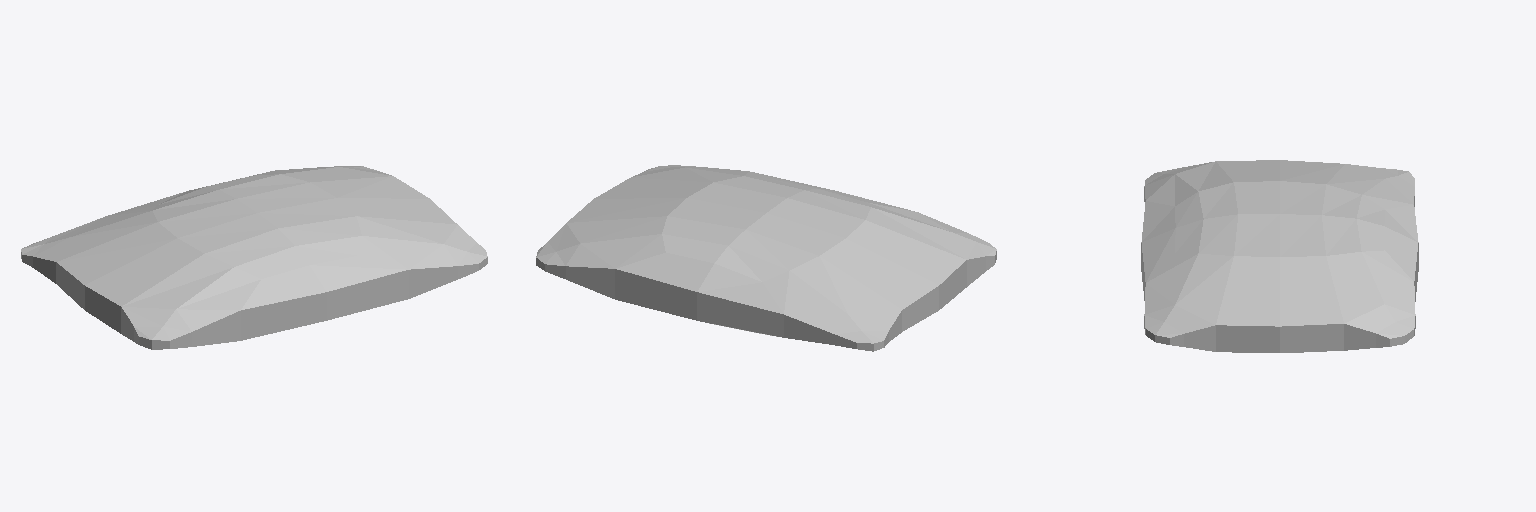
The model's file is pillows_1.obj.
3 renders of one model, left to right at view 1: azimuth 30°, elevation 25°; view 2: azimuth 150°, elevation 25°; view 3: azimuth 270°, elevation 25°, orthographic.
Size of the model in its own units: 6.09 by 1.42 by 4.17.